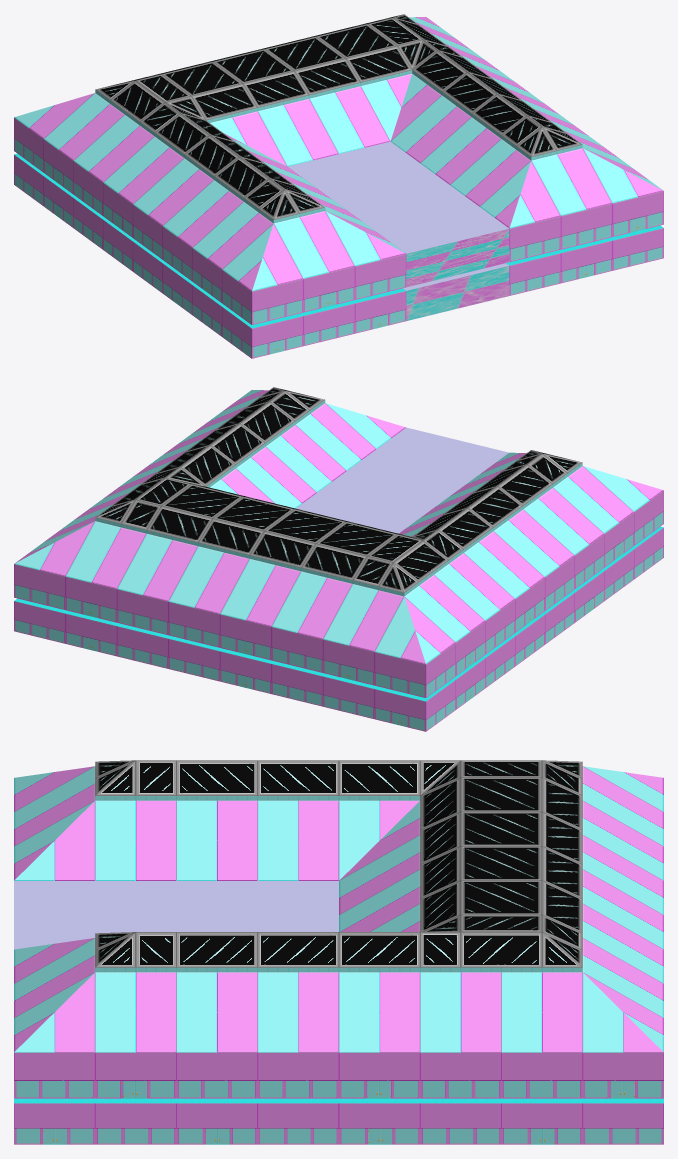
Rendered from mallTest0.dae.
3 views of the same model, one above another, from view 1: azimuth 30°, elevation 25°; view 2: azimuth 150°, elevation 25°; view 3: azimuth 270°, elevation 25° (orthographic). The views are drawn at different scales.
Visible parts, largest first — view 1: Cube; view 2: Cube; view 3: Cube.
Boxes of the visible parts, box(x1,y1,x2,y2) form: Cube: box(14, 14, 663, 358); Cube: box(14, 387, 663, 731); Cube: box(14, 760, 663, 1144).
Bounding box in the file's own units: 128 × 128 × 35.
Materials: 9 (9 with a texture image).
